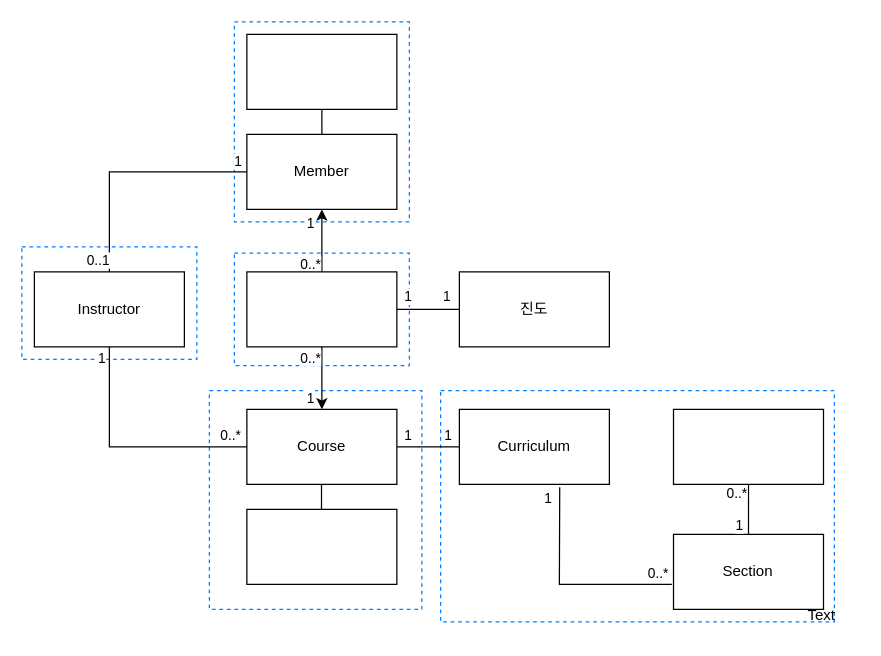
The diagram is 881 pixels wide and 656 high, and some of its shapes have lost their labels. The shapes that lost their labels are listed below. From the top down, each one's centre as x and y in pixels, then its label:
At (321,71): "MemberDetail".
At (321,309): "Enrollment".
At (748,446): "Lesson".
At (321,546): "CourseDetail".
